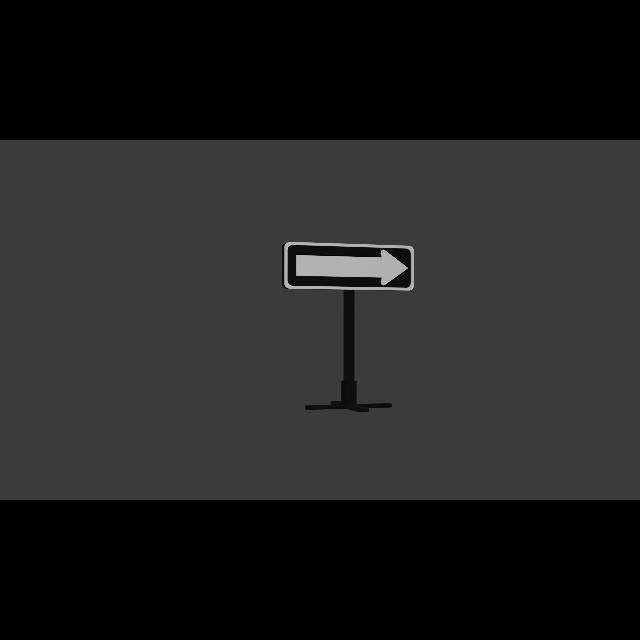sign_oneway_right: (285, 241, 416, 292)
